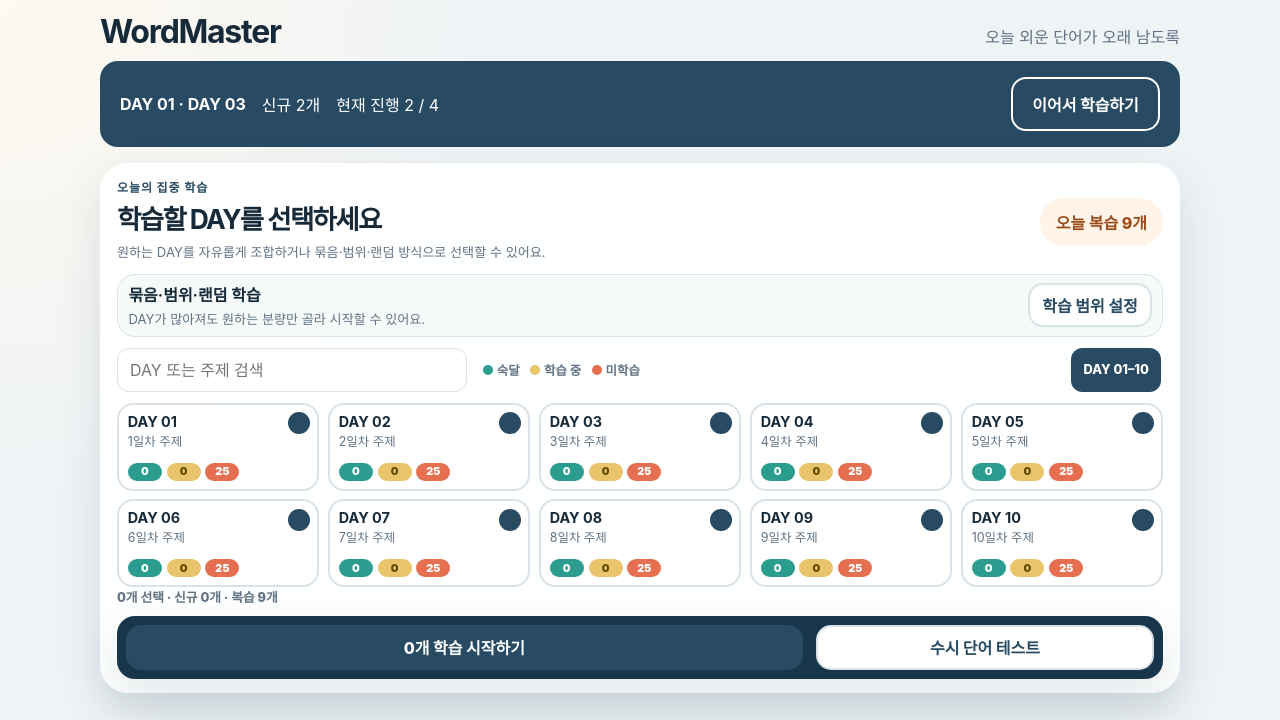
Test case: closes replacement confirmation and focuses a newly reported storage error after replacement fails
Click the button "DAY 02 2일차 주제 0 0 25" at (429, 447), box [328,403,530,491]
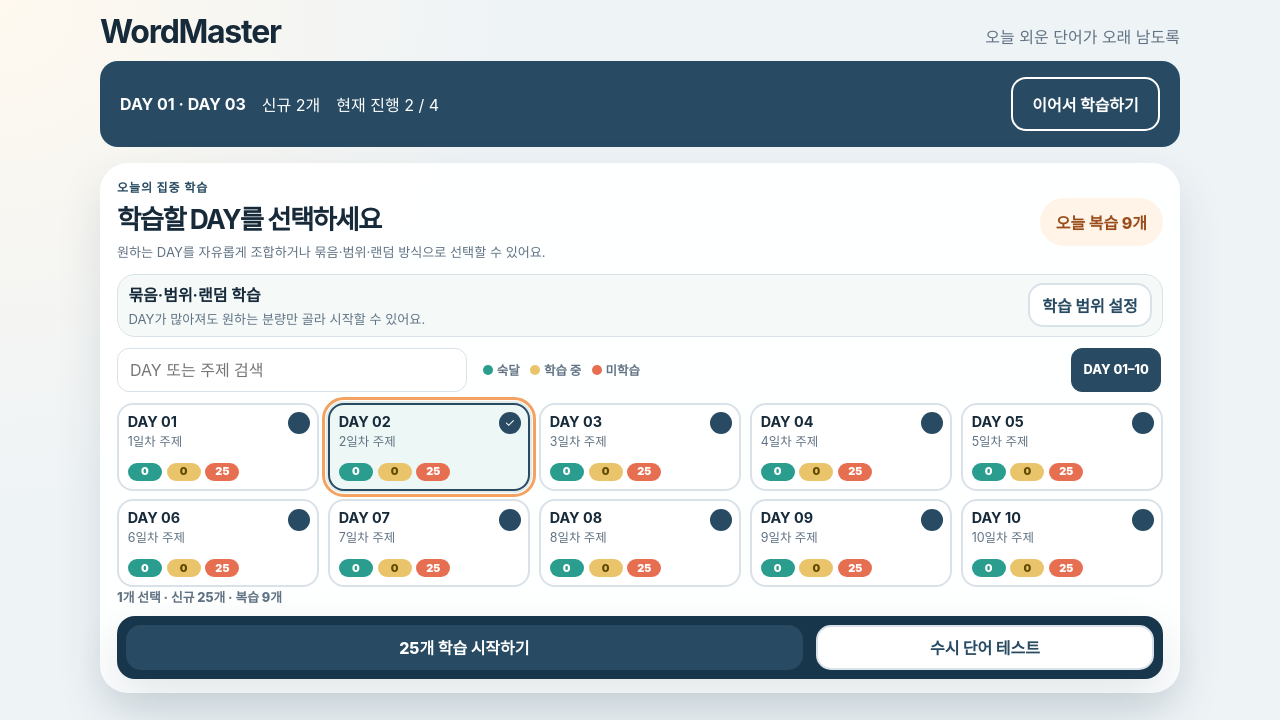
Click the button "25개 학습 시작하기" at (464, 647), box [126,624,803,670]
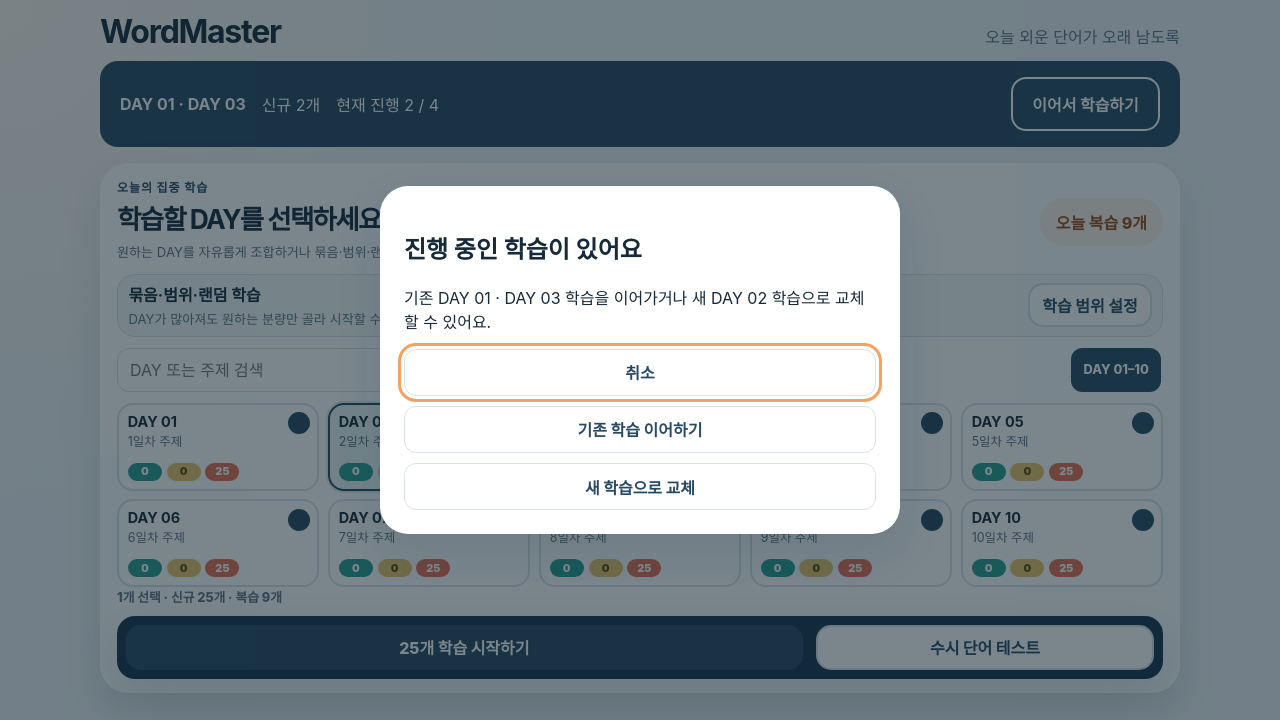
Click the button "새 학습으로 교체" at (640, 487), box [404,463,876,510]
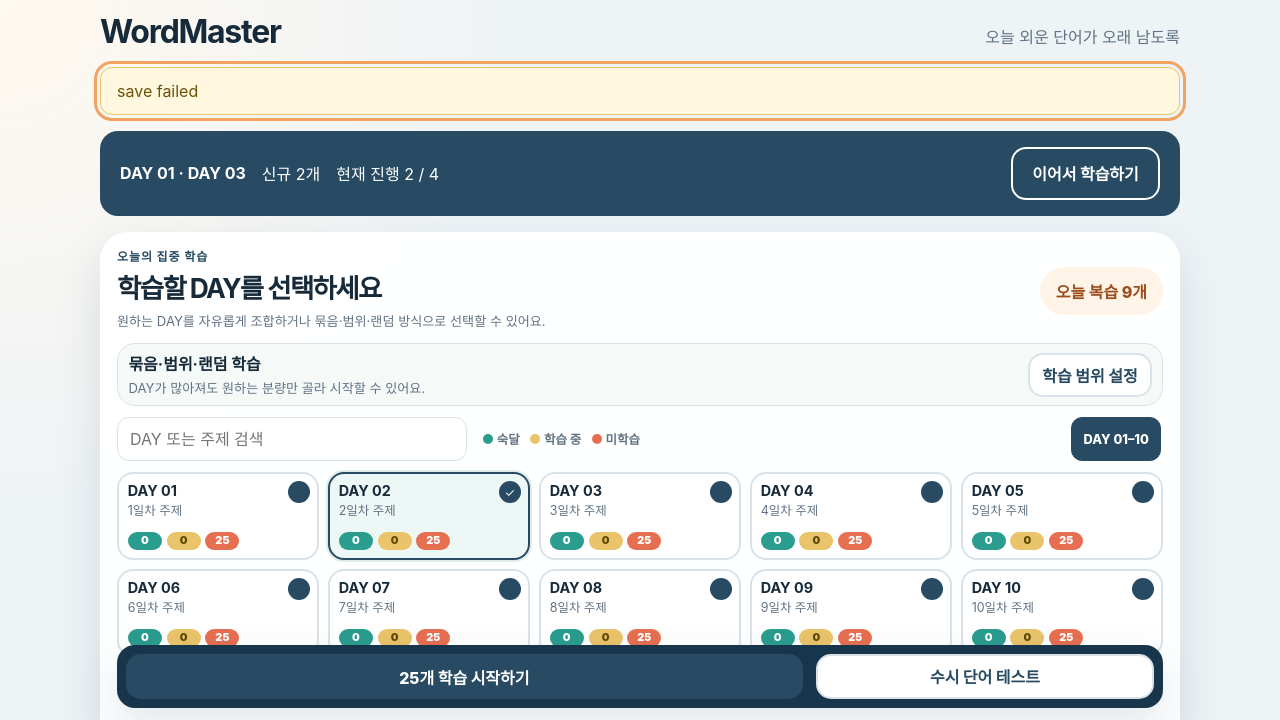
Now the dialog is gone
Now the message reads "save failed", box [117,81,198,101]
